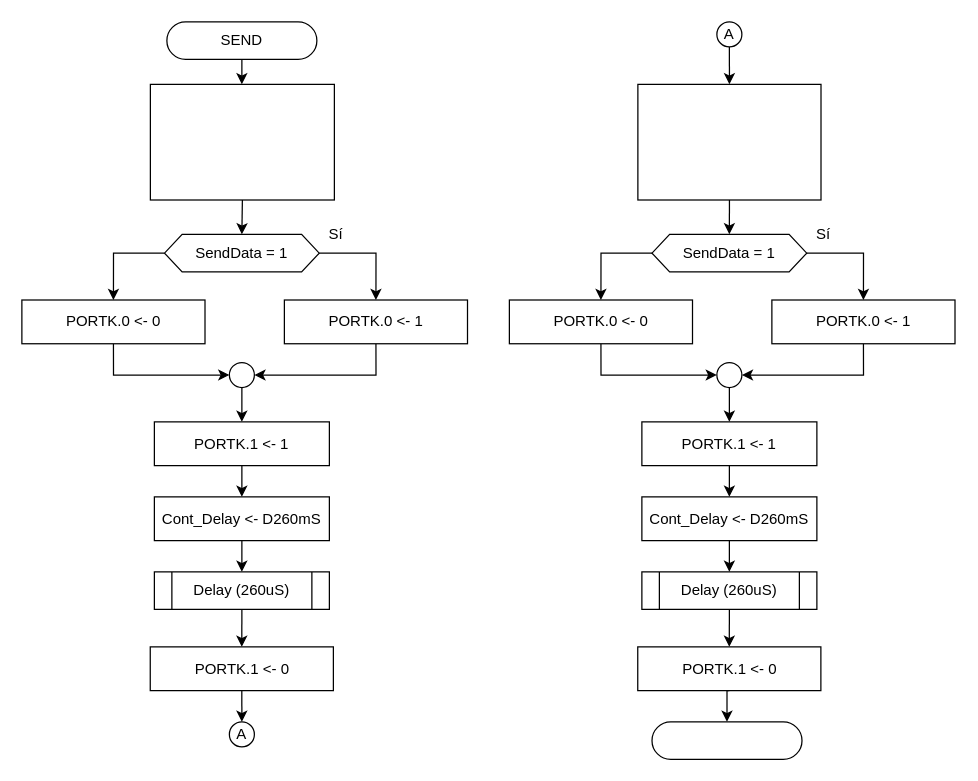
This 978x781 diagram has some shape labels left out. Here are the shapes that lost their labels. From the top down, the box of each, then its label:
(149, 83, 334, 200): ↑(R1) R1 <- (R1) && $F0 0 -> R1 -> C 0 -> R1 -> C PORTK <- (R1)
(637, 83, 821, 200): ↓ R1 R1 <- (R1) && $0F C <- R1 <- 0 C <- R1 <- 0 PORTK <- (R1)
(651, 721, 802, 759): REGRESA
